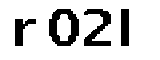0: (45, 6, 80, 50)
2: (81, 5, 112, 49)
l: (116, 6, 140, 50)
r: (12, 15, 39, 50)
